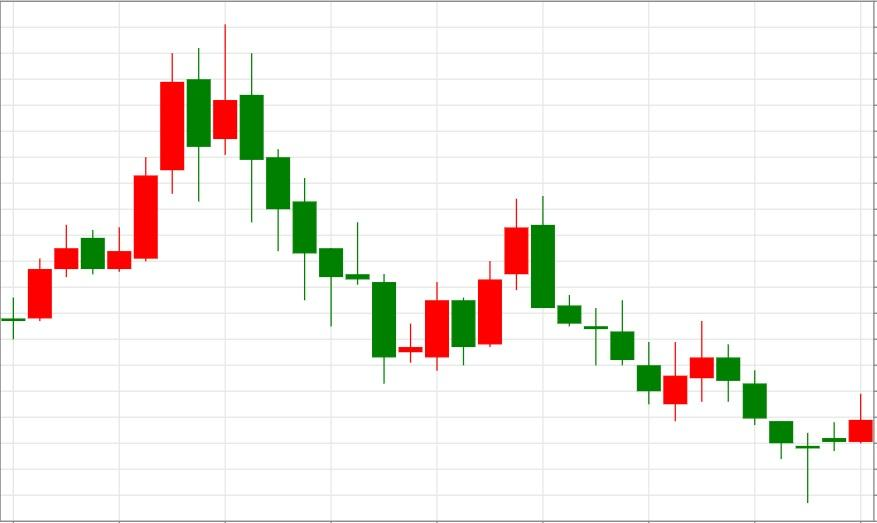bearish_engulfing_fall: (370, 195, 555, 384)
three_black_crows_fall: (0, 24, 318, 339)
